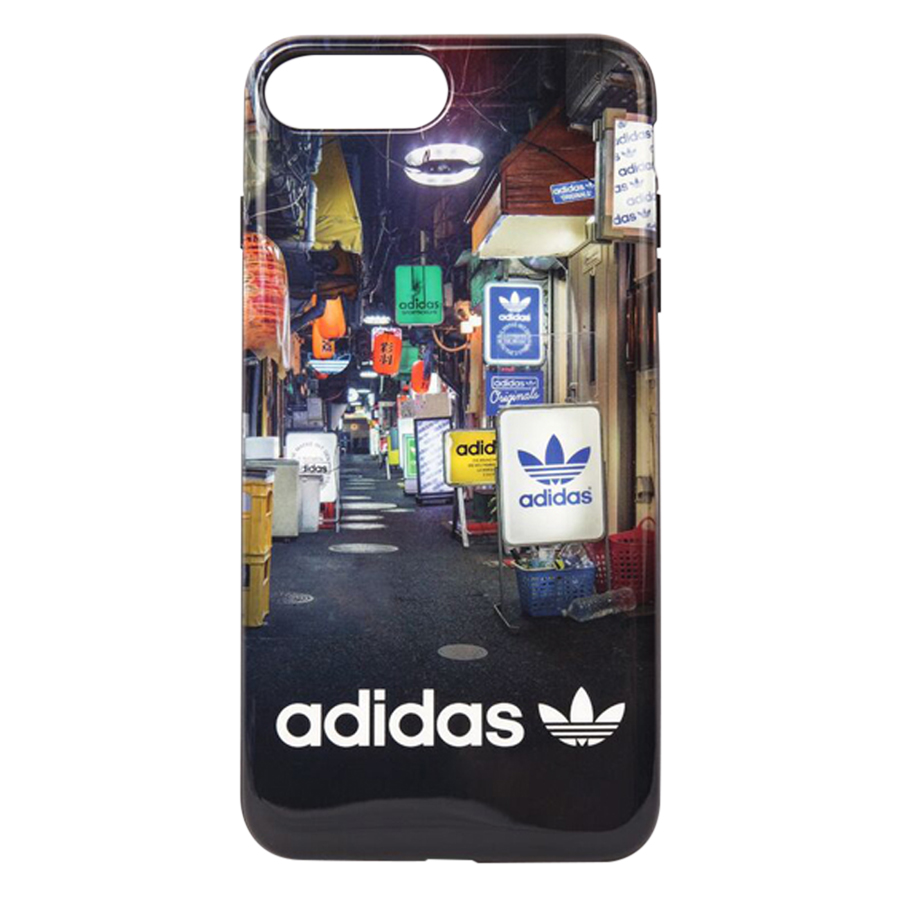Adidas: (271, 672, 631, 760), (509, 425, 598, 513), (491, 285, 538, 325)
